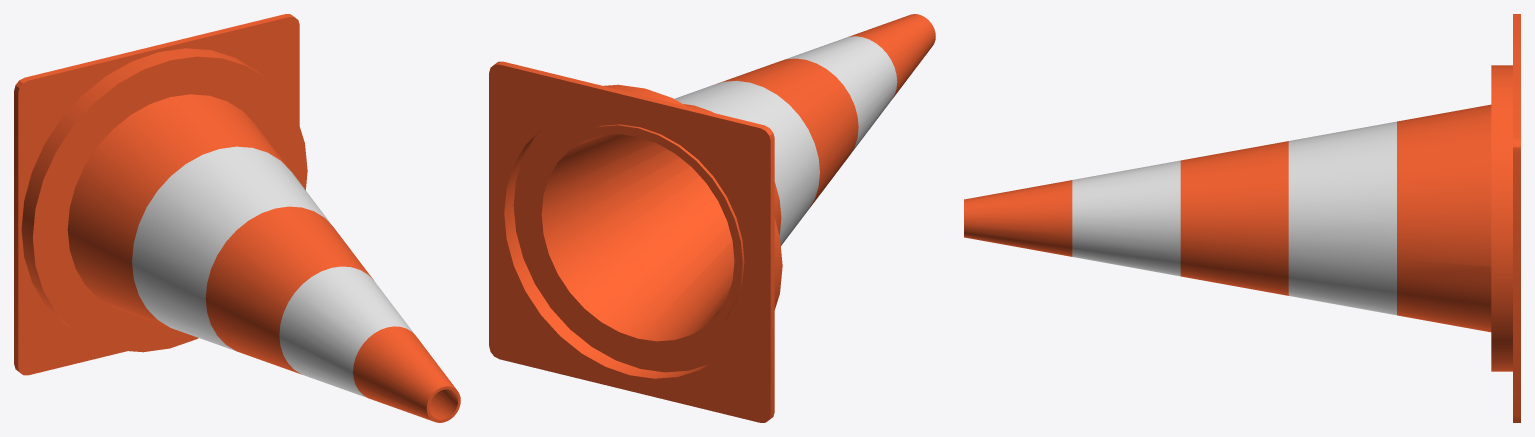
The model's file is BigCone.fbx.
3 renders of one model, left to right at view 1: azimuth 30°, elevation 25°; view 2: azimuth 150°, elevation 25°; view 3: azimuth 270°, elevation 25°, orthographic. The views are drawn at different scales.
Parts seen in each view (by area): view 1: Cone; view 2: Cone; view 3: Cone.
Part boxes in pixels (x1,y1,x2,y2): Cone: (14,14,460,422); Cone: (489,14,935,422); Cone: (964,14,1520,422).
Size of the model in its own units: 57 by 57 by 101.
